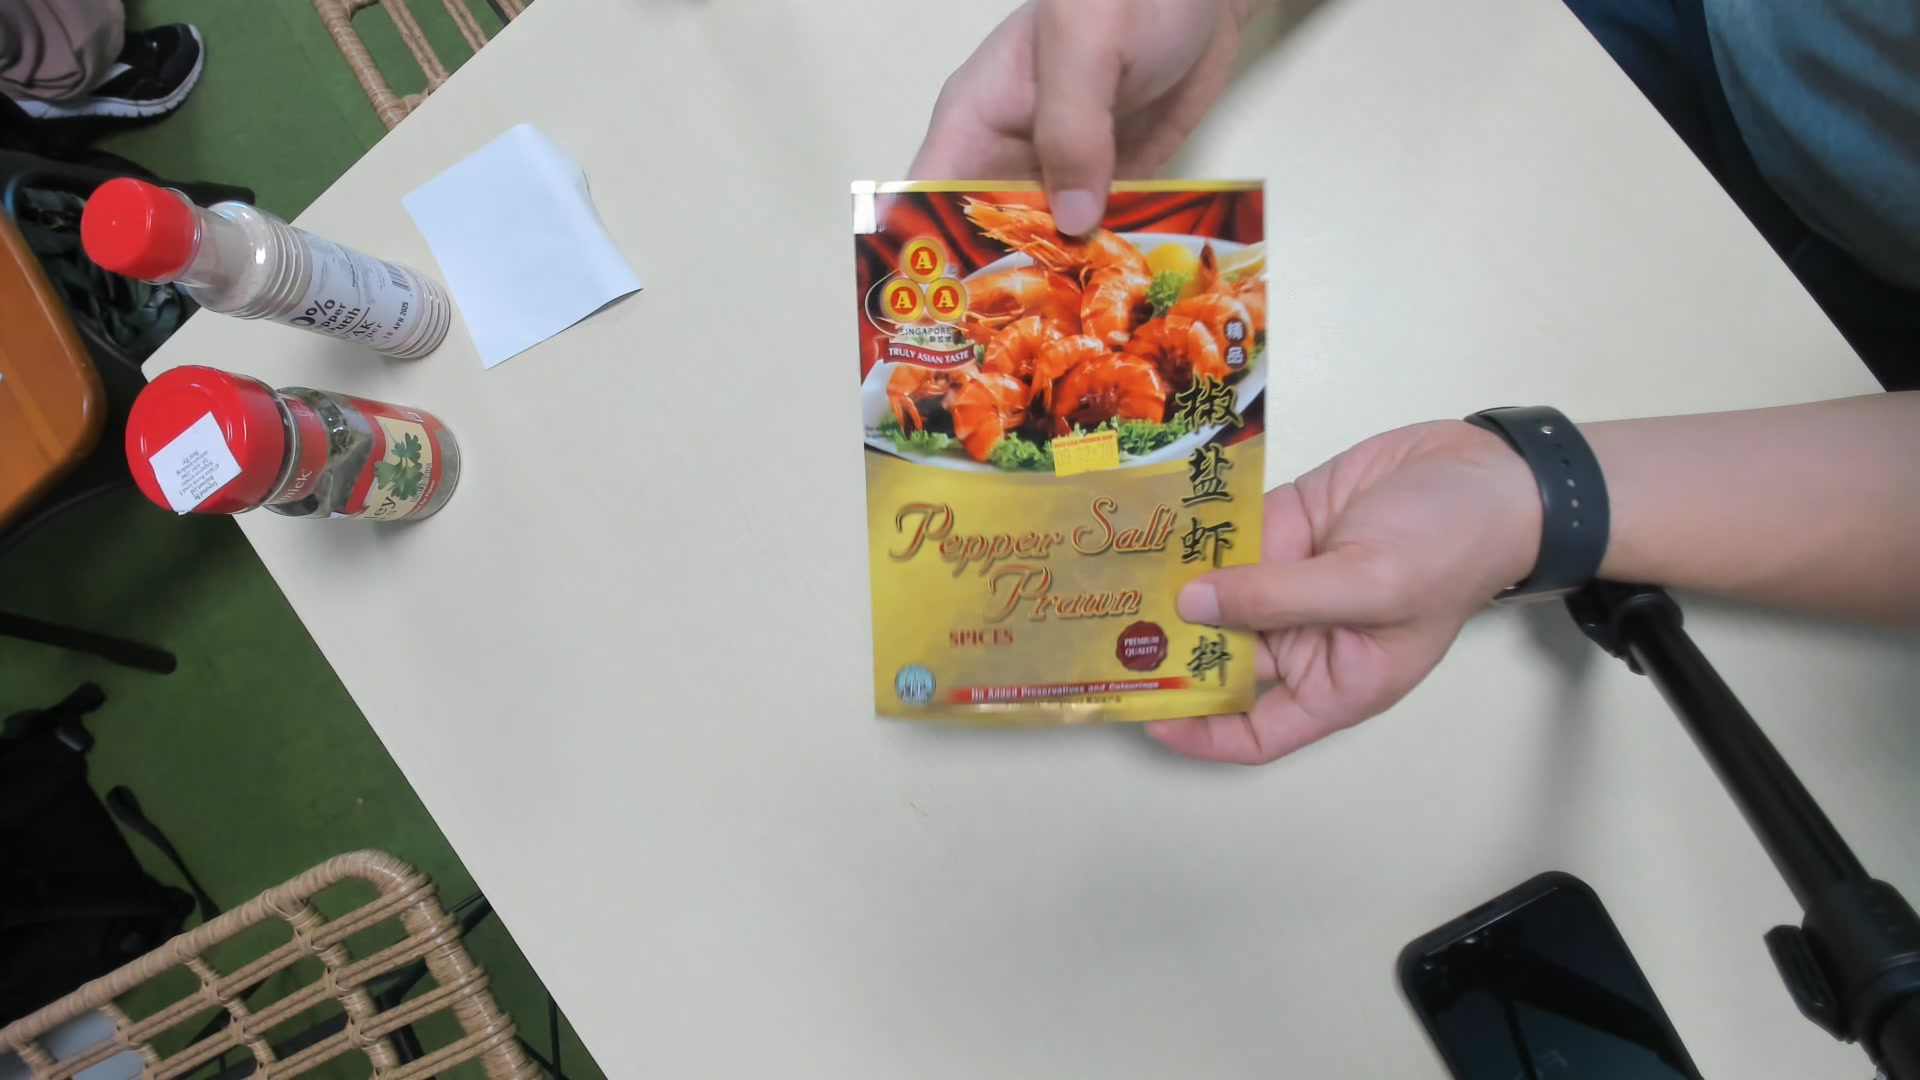HerbsSpicesPepper_400-499g_Halal_NonHealthy: (837, 166, 1254, 727)
